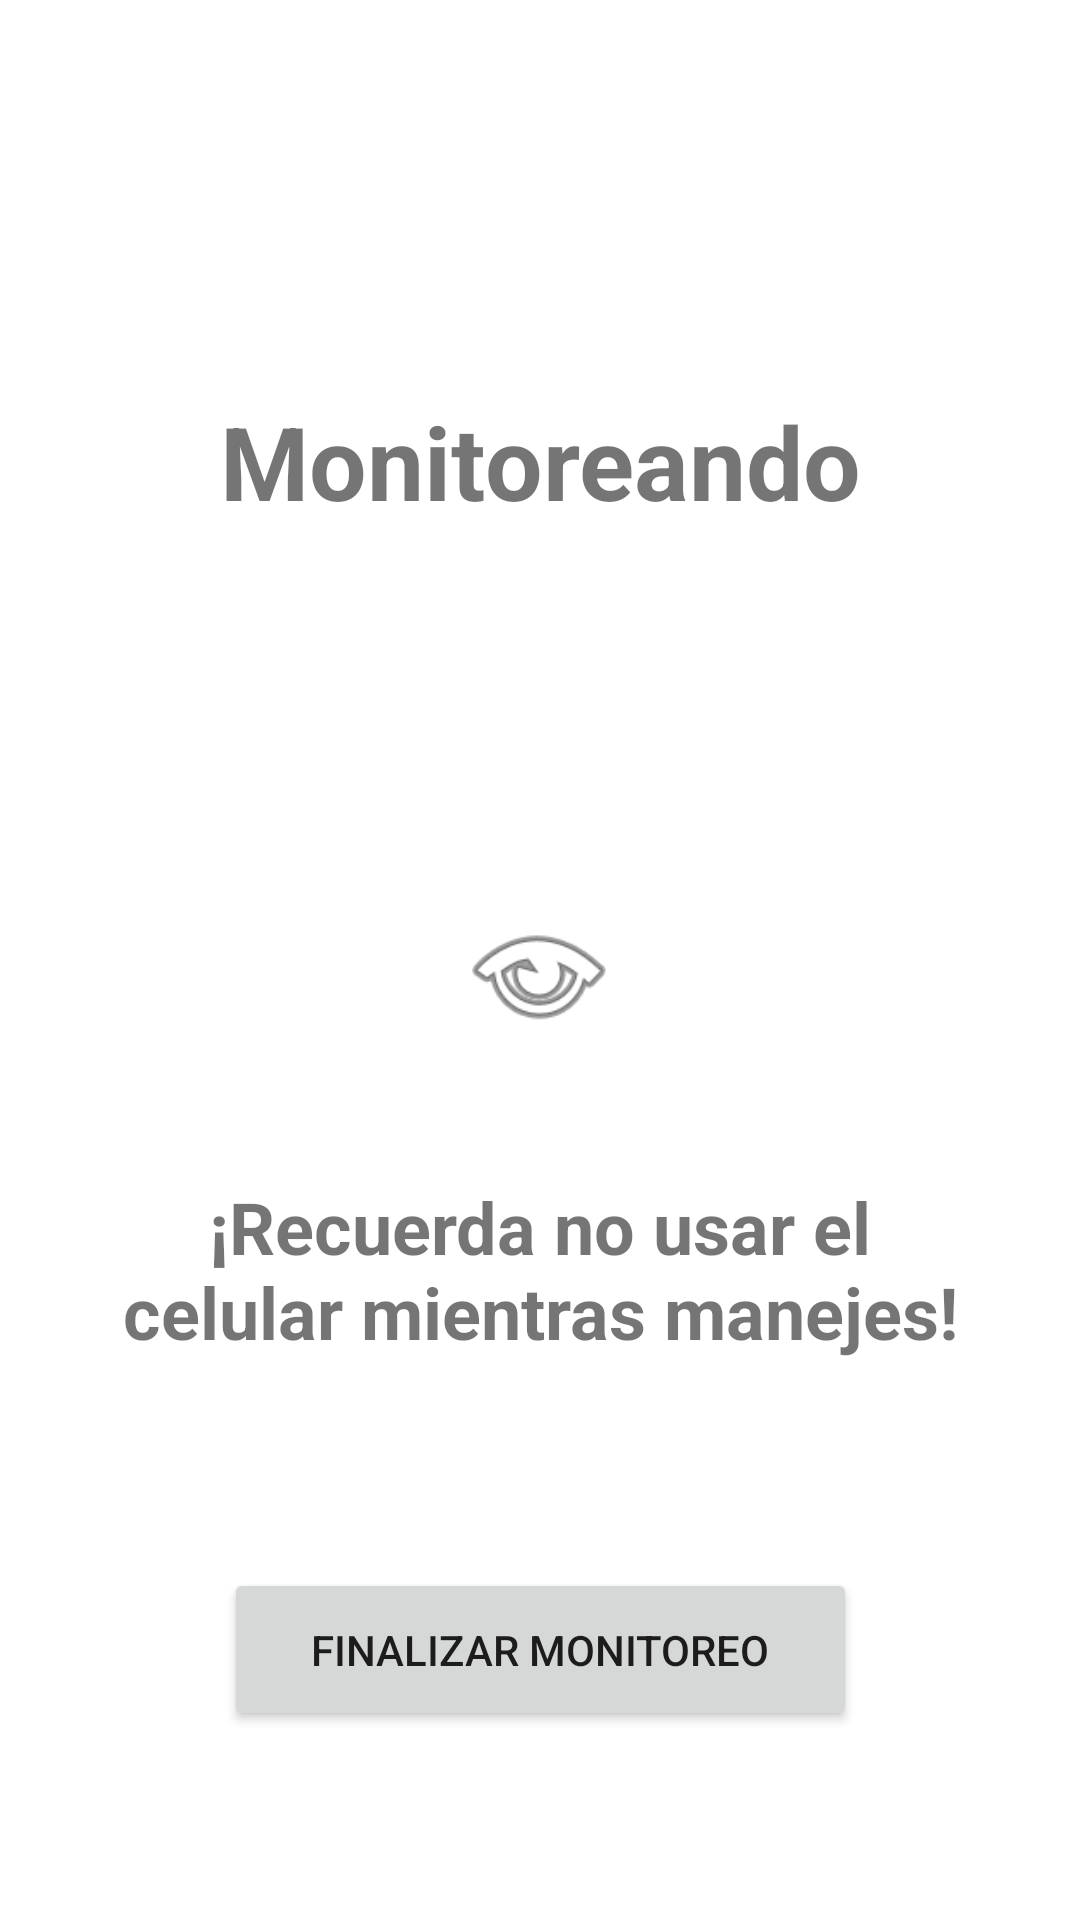

Named icons in this screenshot (1080px×1920px) and their centers, (x,y):
view: (539,977)
